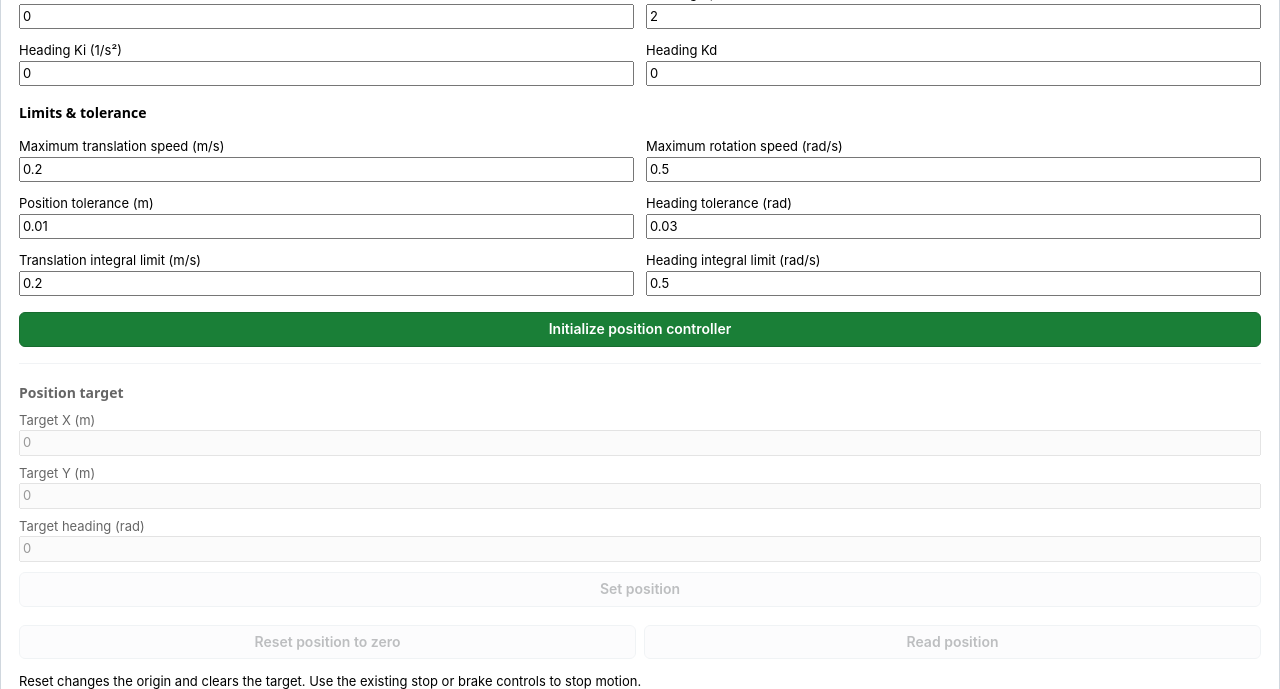
it: position controls › sends platform fields in firmware order and exposes missing sample errors
(page scrolled)
Click the button "Initialize position controller" at (640, 329), box [19,312,1261,347]
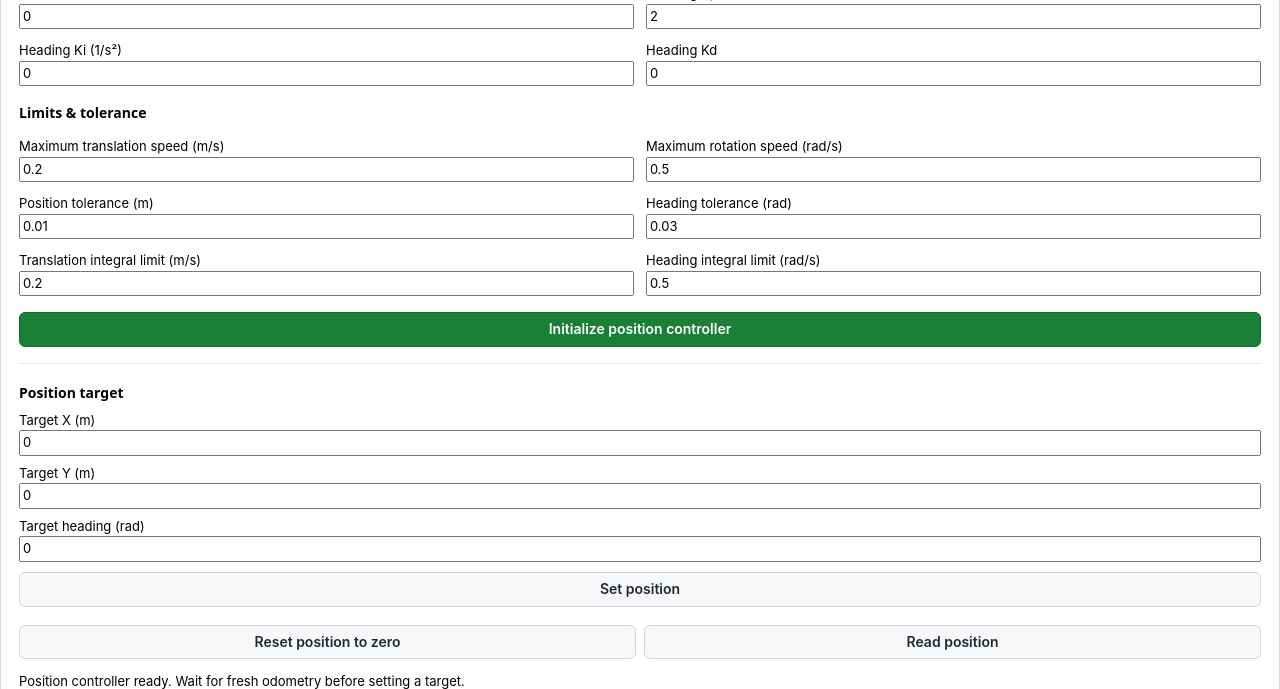
Expected: the button "Set position" is enabled, [19,572,1261,607]
Replace the text in the number field labelled "Target X (m)" with "1" at (640, 443), box [19,430,1261,456]
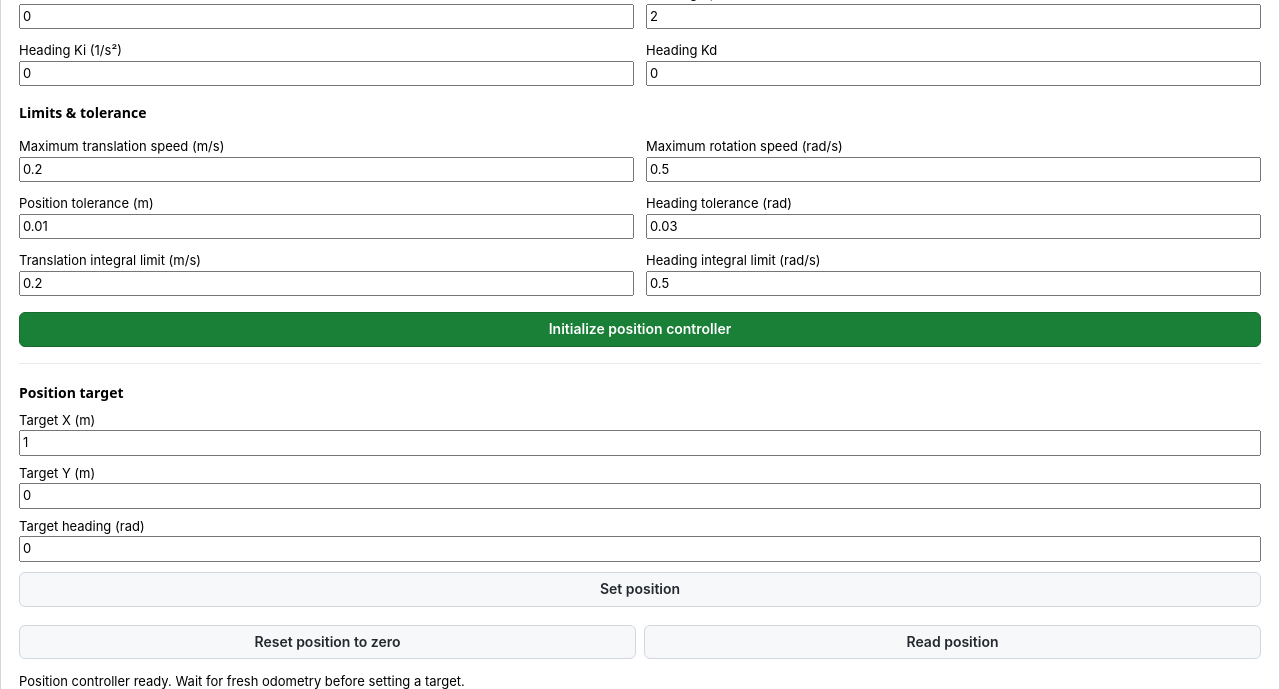
Replace the text in the number field labelled "Target Y (m)" with "-2" at (640, 496), box [19,483,1261,509]
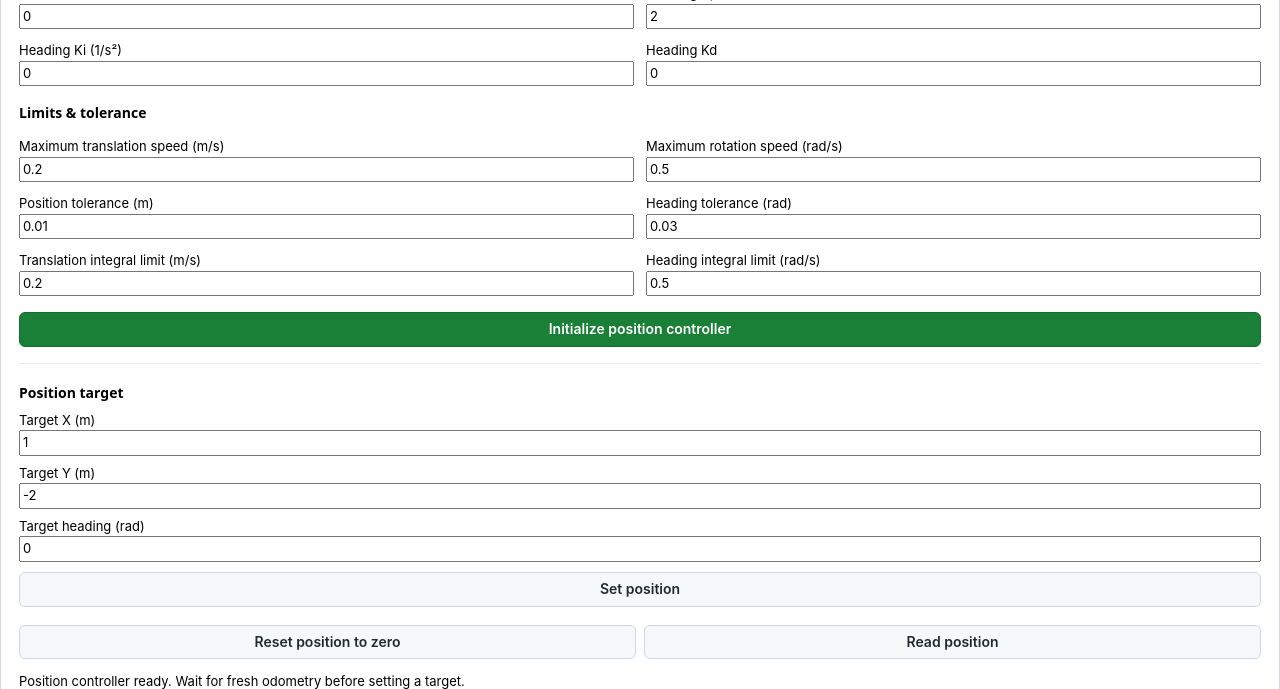
Replace the text in the number field labelled "Target heading (rad)" with "0.5" at (640, 549), box [19,536,1261,562]
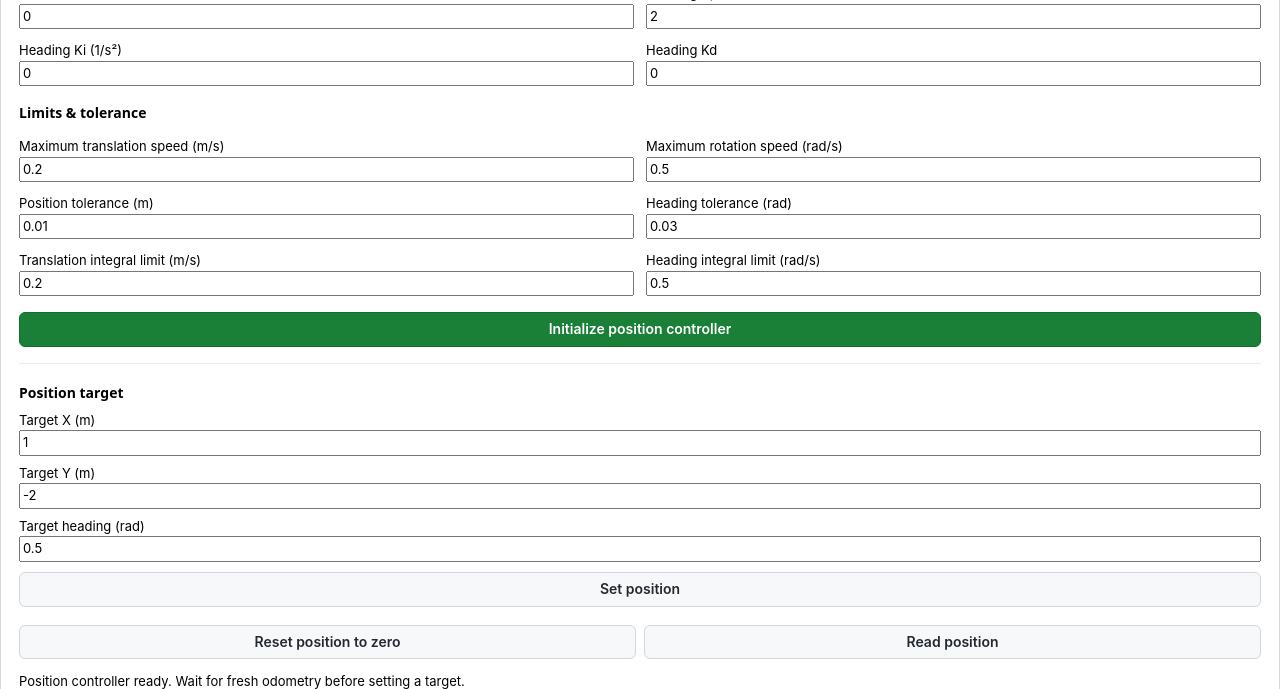
Click the button "Set position" at (640, 589), box [19,572,1261,607]
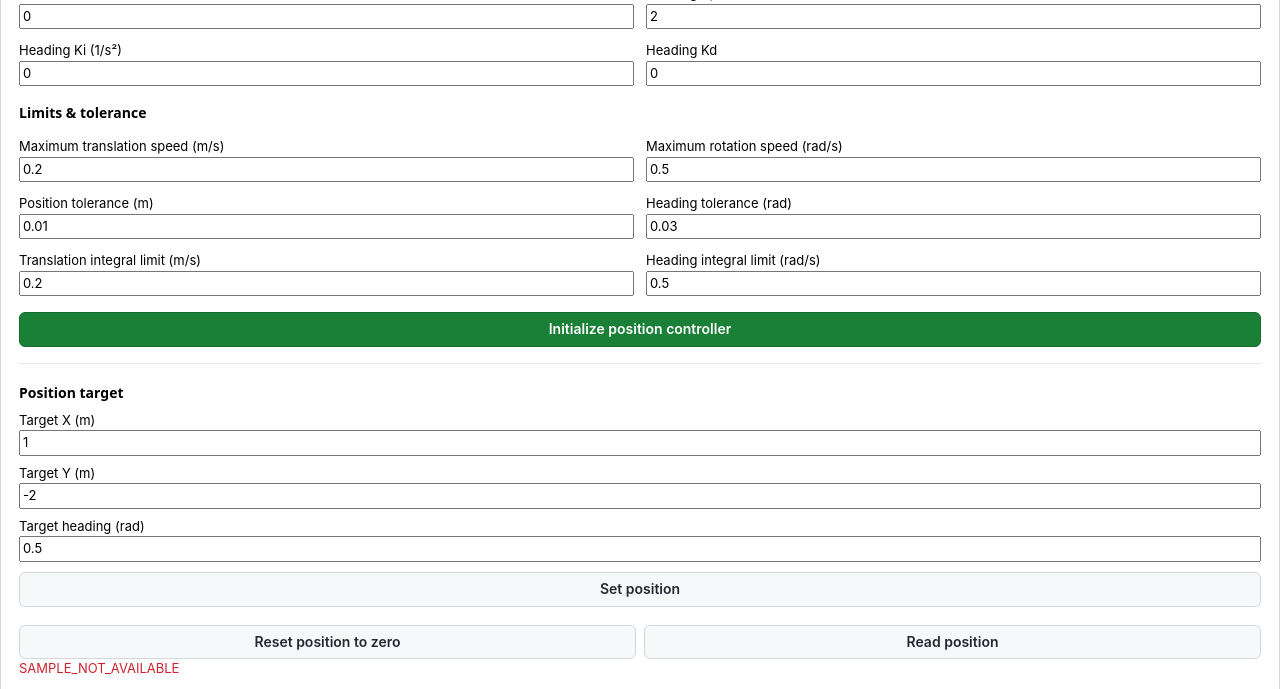
Expected: the message reads "SAMPLE_NOT_AVAILABLE", [19,660,179,676]
Click the button "Read position" at (952, 642), box [644,625,1261,659]
(page scrolled)
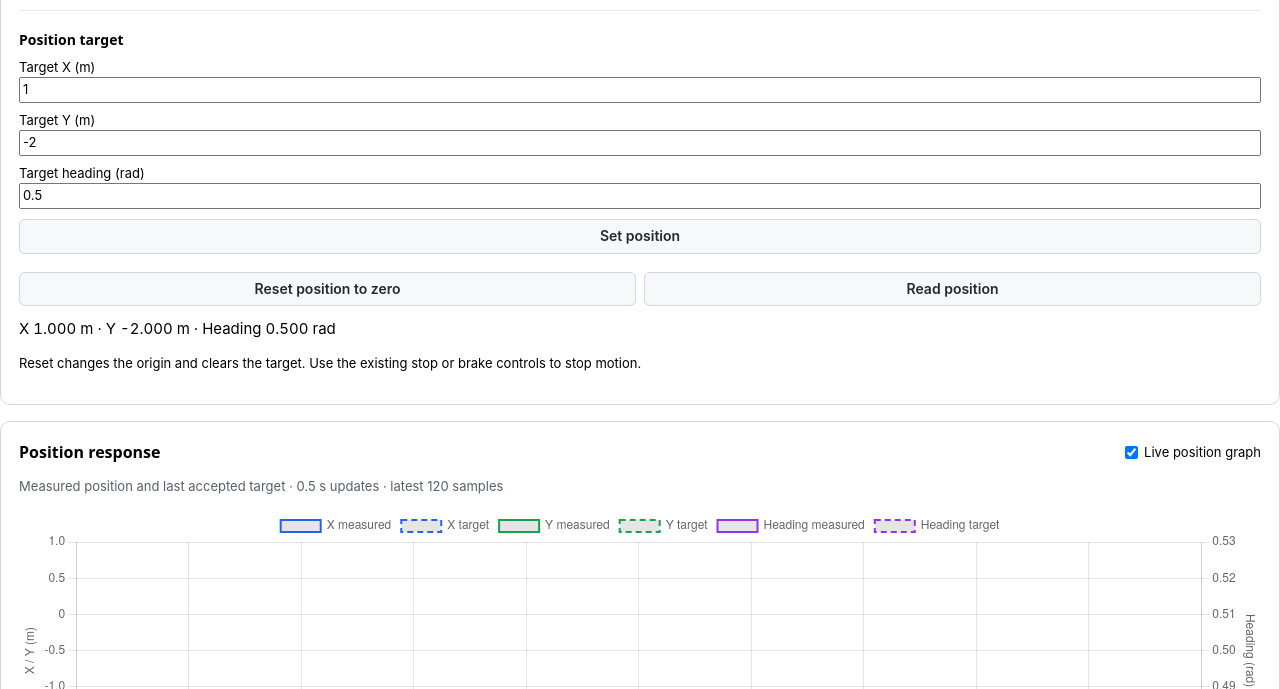
Expected: the text named "Current position" shows "X 1.000 m", [19,319,336,338]
